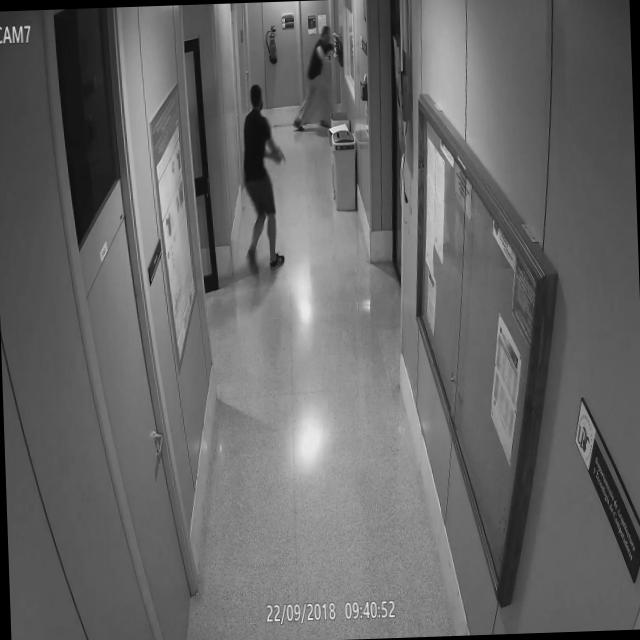gun: (270, 142, 289, 172)
person: (298, 21, 336, 135)
person with a gun: (238, 80, 286, 276)
